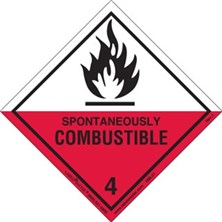SpontaneouslyCombustible: (1, 1, 221, 222)
